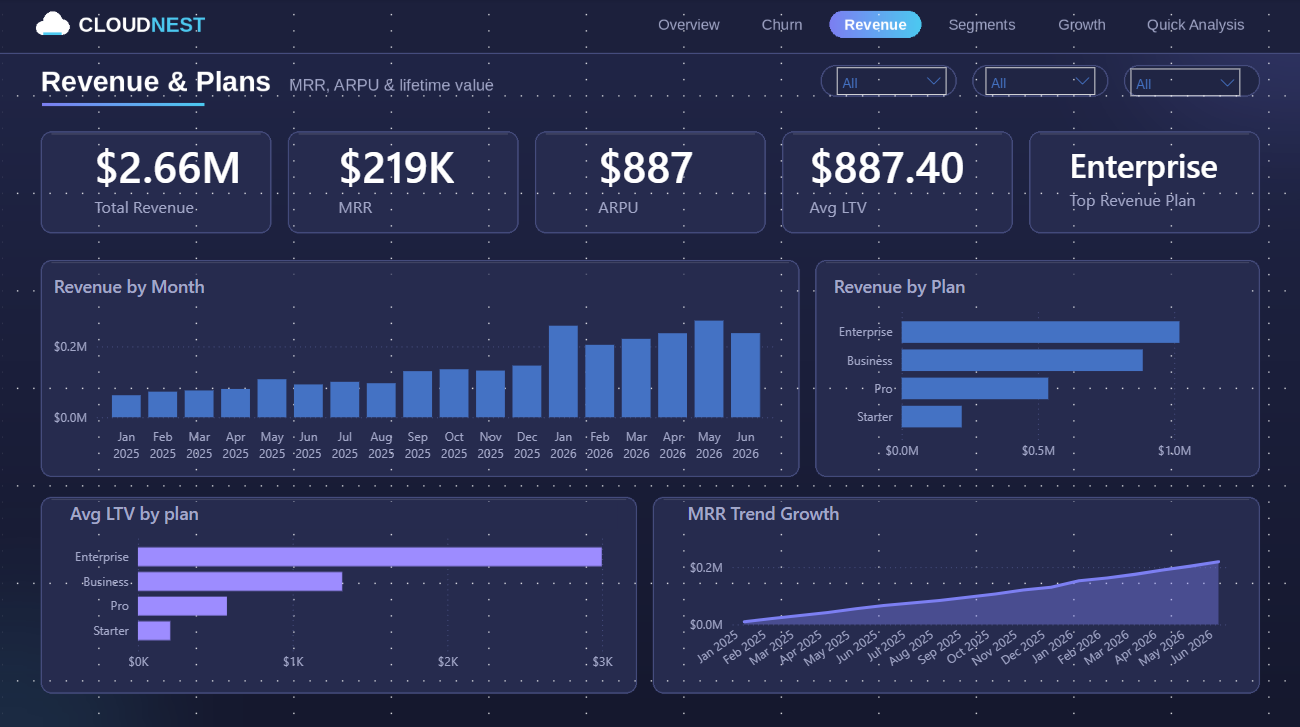

The page's visual inventory and layout, read from the dashboard file:
{"tool":"powerbi","page":{"name":"Revenue & Plans","canvas":[1280,720],"ordinal":3},"visuals":[{"type":"slicer","fields":{"Values":["customers.region"]},"box":[814,58,128,64],"z":0},{"type":"slicer","fields":{"Values":["customers.industry"]},"box":[960,58,128,64],"z":1000},{"type":"slicer","fields":{"Values":["subscriptions.billing_cycle"]},"box":[1103,59,128,63],"z":2000},{"type":"cardVisual","fields":{"Data":["_Measures.Total Revenue"]},"box":[64,112,208,128],"z":3000},{"type":"cardVisual","fields":{"Data":["_Measures.MRR"]},"box":[304,112,192,128],"z":4000},{"type":"cardVisual","fields":{"Data":["_Measures.Avg LTV"]},"box":[768,112,224,128],"z":5000},{"type":"cardVisual","fields":{"Data":["_Measures.Top Revenue Plan"]},"box":[1024,112,224,128],"z":6000},{"type":"clusteredColumnChart","title":"Revenue by Month","fields":{"Y":["_Measures.Total Revenue"],"Category":["DateTable.Month Start"]},"box":[48,272,720,192],"z":7000},{"type":"clusteredBarChart","title":"Revenue by Plan","fields":{"Category":["plans.plan_name"],"Y":["_Measures.Total Revenue"]},"box":[816,272,416,192],"z":8000},{"type":"clusteredBarChart","title":"Avg LTV by plan","fields":{"Category":["plans.plan_name"],"Y":["_Measures.Avg LTV"]},"box":[64,496,544,176],"z":9000},{"type":"areaChart","title":"MRR Trend Growth","fields":{"Y":["_Measures.MRR Trend"],"Category":["DateTable.Month Start"]},"box":[672,496,544,176],"z":10000},{"type":"cardVisual","fields":{"Data":["_Measures.ARPU"]},"box":[560,112,192,128],"z":11000},{"type":"actionButton","box":[736,11,80,32],"z":12000},{"type":"actionButton","box":[640,16,80,32],"z":13000},{"type":"actionButton","box":[927,12,80,32],"z":14000},{"type":"actionButton","box":[1024,13,80,32],"z":15000},{"type":"actionButton","box":[1130,13,96,32],"z":16000}]}

Visuals, with their boxes in screenshot pixels (x1, y1, x2, y2), scaled from the page's 1280x720 canvas onto the 1300x727 screenshot:
slicer - customers.region: 827 59 957 123
slicer - customers.industry: 975 59 1105 123
slicer - subscriptions.billing_cycle: 1120 60 1250 123
cardVisual - _Measures.Total Revenue: 65 113 276 242
cardVisual - _Measures.MRR: 309 113 504 242
cardVisual - _Measures.Avg LTV: 780 113 1008 242
cardVisual - _Measures.Top Revenue Plan: 1040 113 1268 242
"Revenue by Month" clusteredColumnChart: 49 275 780 469
"Revenue by Plan" clusteredBarChart: 829 275 1251 469
"Avg LTV by plan" clusteredBarChart: 65 501 618 679
"MRR Trend Growth" areaChart: 682 501 1235 679
cardVisual - _Measures.ARPU: 569 113 764 242
actionButton: 748 11 829 43
actionButton: 650 16 731 48
actionButton: 941 12 1023 44
actionButton: 1040 13 1121 45
actionButton: 1148 13 1245 45
